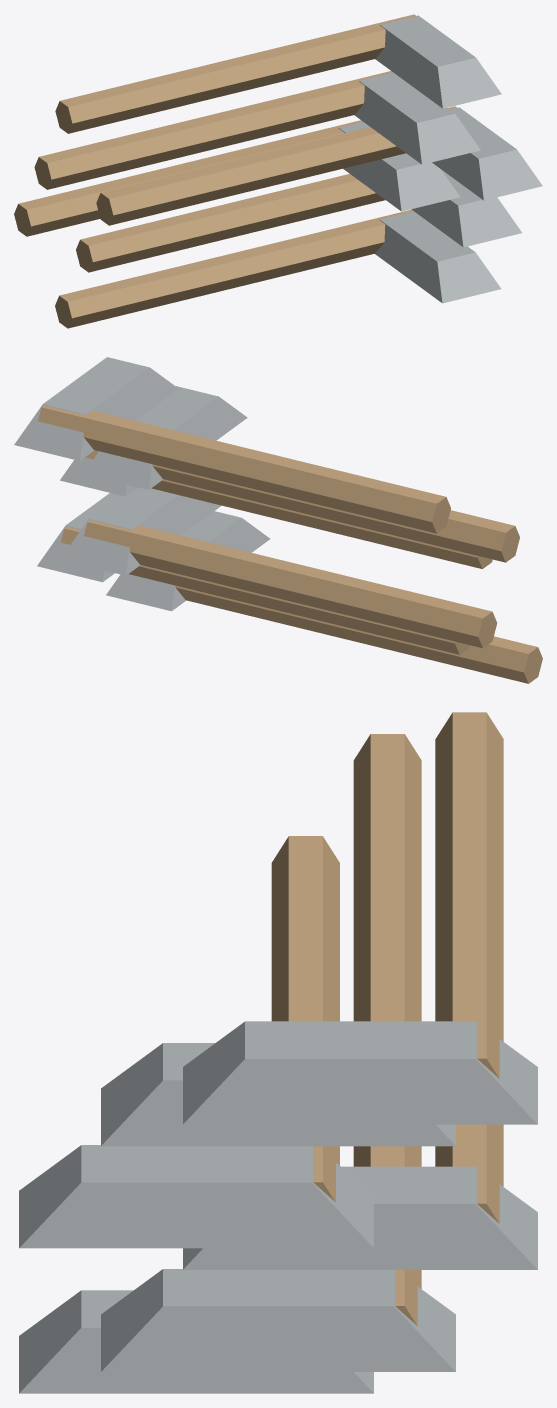
File: item_052_adze_l.glb
3 renders of one model, top to bottom at view 1: azimuth 30°, elevation 25°; view 2: azimuth 150°, elevation 25°; view 3: azimuth 270°, elevation 25°, orthographic. The views are drawn at different scales.
Parts seen in each view (by area): view 1: item_052_adze_l; view 2: item_052_adze_l; view 3: item_052_adze_l.
Boxes of the visible parts, box(x1,y1,x2,y2) form: item_052_adze_l: box(14, 14, 542, 328); item_052_adze_l: box(14, 357, 542, 683); item_052_adze_l: box(19, 712, 537, 1393).
Size of the model in its own units: 0.69 by 0.295 by 0.38.
